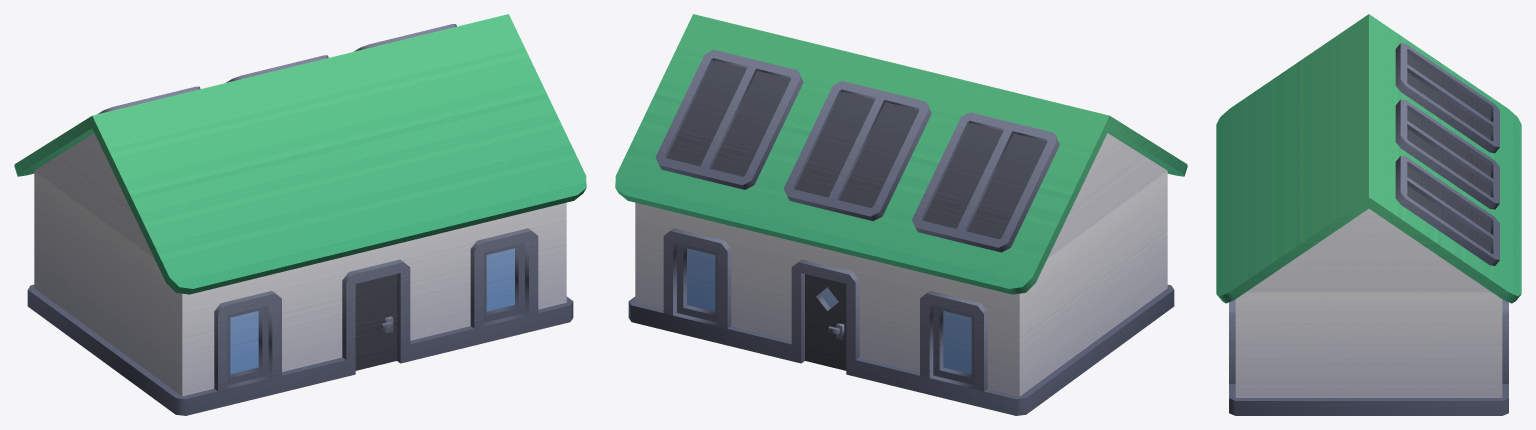
File: building_type_h.glb
The picture shows the model from 3 angles, left to right: view 1: azimuth 30°, elevation 25°; view 2: azimuth 150°, elevation 25°; view 3: azimuth 270°, elevation 25°; orthographic projection. The views are drawn at different scales.
Visible parts, largest first — view 1: building-type-h; view 2: building-type-h; view 3: building-type-h.
Boxes of the visible parts, bbox=[...] form: building-type-h: bbox=[14, 14, 586, 415]; building-type-h: bbox=[615, 14, 1187, 415]; building-type-h: bbox=[1216, 14, 1521, 415].
Bounding box in the file's own units: 1.3 × 0.7375 × 0.916.
1 material, 1 textured.
